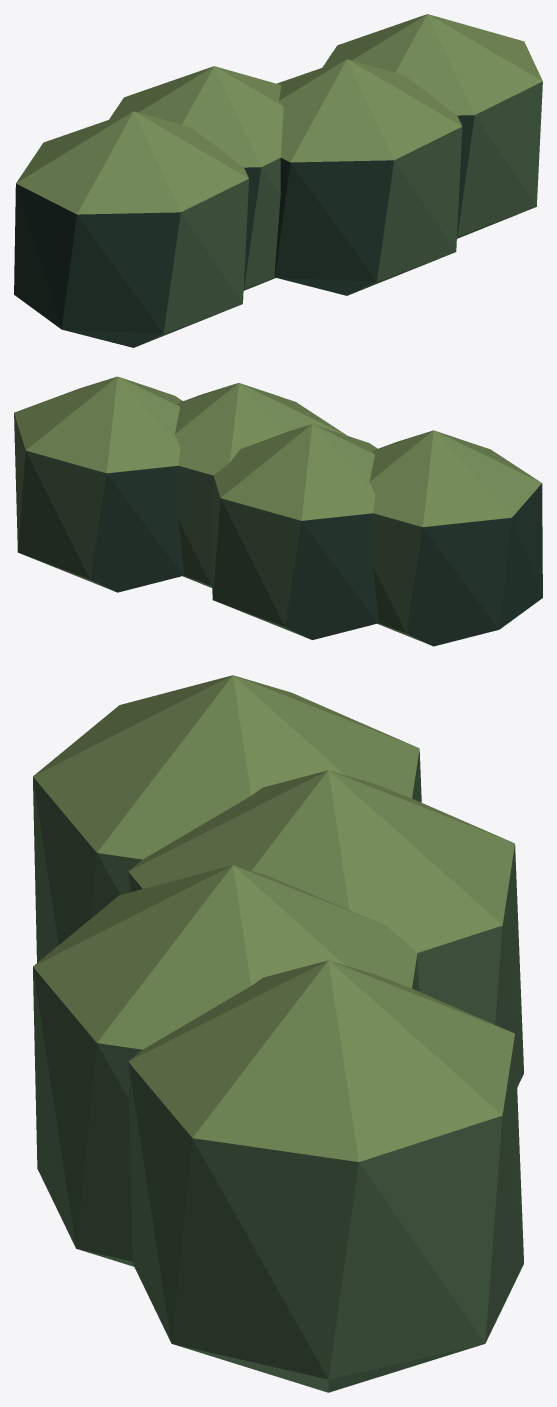
The model's file is TW_VEG_BUSH_LONG_A_LOD0.glb.
The picture shows the model from 3 angles, top to bottom: view 1: azimuth 30°, elevation 25°; view 2: azimuth 150°, elevation 25°; view 3: azimuth 270°, elevation 25°; orthographic projection. The views are drawn at different scales.
Visible parts, largest first — view 1: TW_VEG_BUSH_LONG_A_LOD0; view 2: TW_VEG_BUSH_LONG_A_LOD0; view 3: TW_VEG_BUSH_LONG_A_LOD0.
Part boxes in pixels (left/top/right/bottom): TW_VEG_BUSH_LONG_A_LOD0: left=14, top=14, right=542, bottom=347; TW_VEG_BUSH_LONG_A_LOD0: left=14, top=376, right=542, bottom=646; TW_VEG_BUSH_LONG_A_LOD0: left=33, top=675, right=523, bottom=1392.
Bounding box in the file's own units: 1.63 × 0.7 × 0.7208.
1 material, 1 textured.
